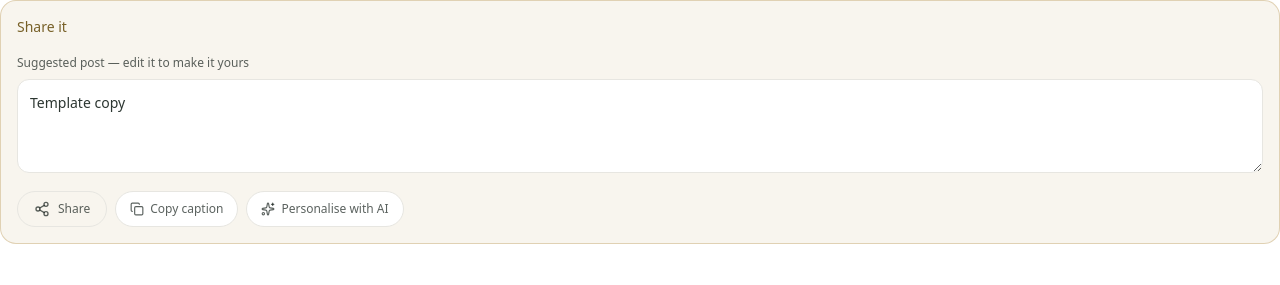
ShareMoment › reports honestly when AI personalisation is not configured
Click the button "Personalise with AI".
click(325, 209)  # box [246,191,404,227]
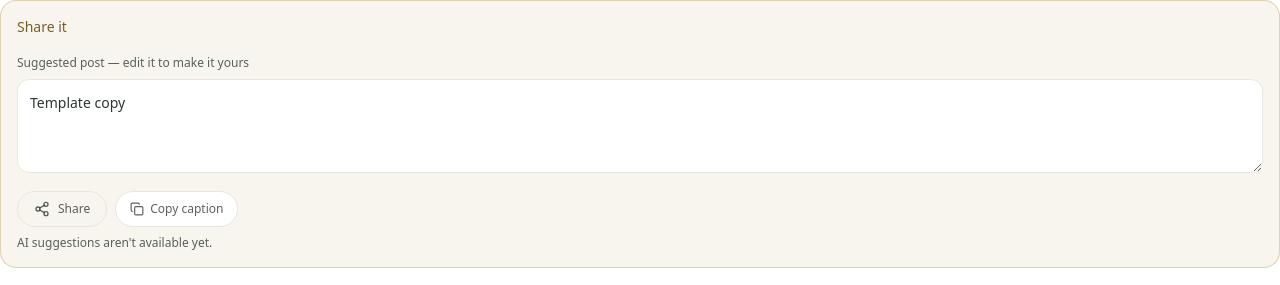
Expected: the text box holds "Template copy", [17,79,1263,173]
Result: the text "AI suggestions aren't available yet." is shown at [17,234,212,251]
Result: the button "Personalise with AI" is gone
